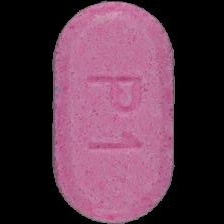0179-0083: (0, 0, 224, 224)
